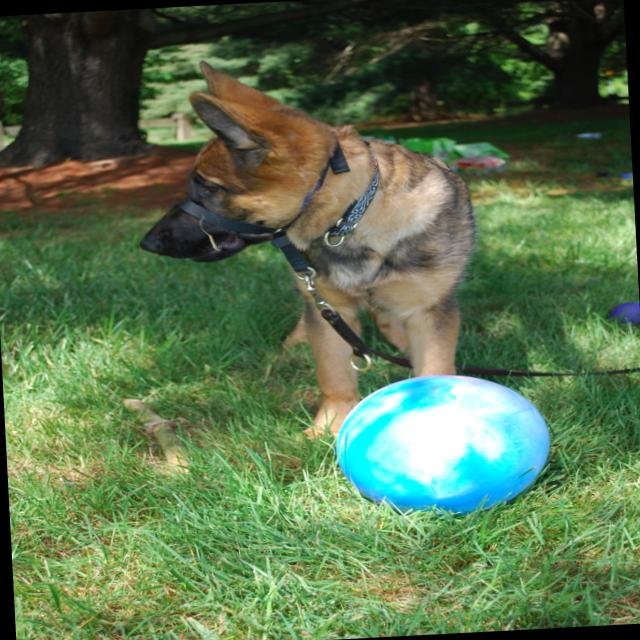Ball: (332, 369, 558, 522)
